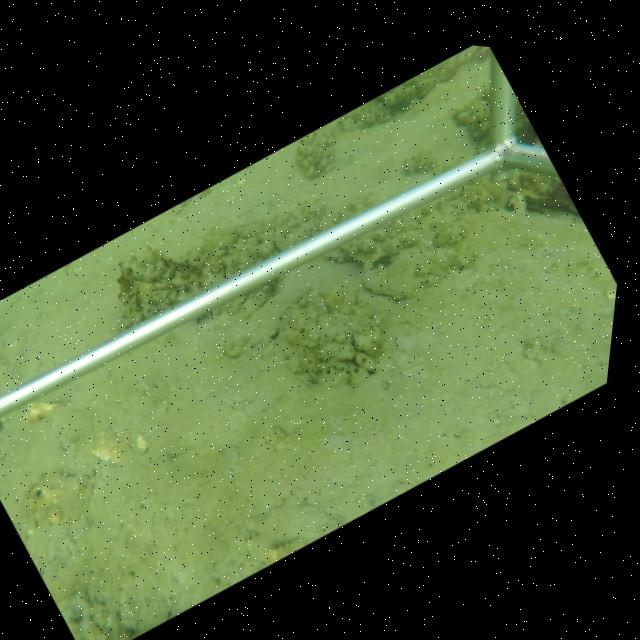Oyster-Closed: (361, 246, 476, 299)
